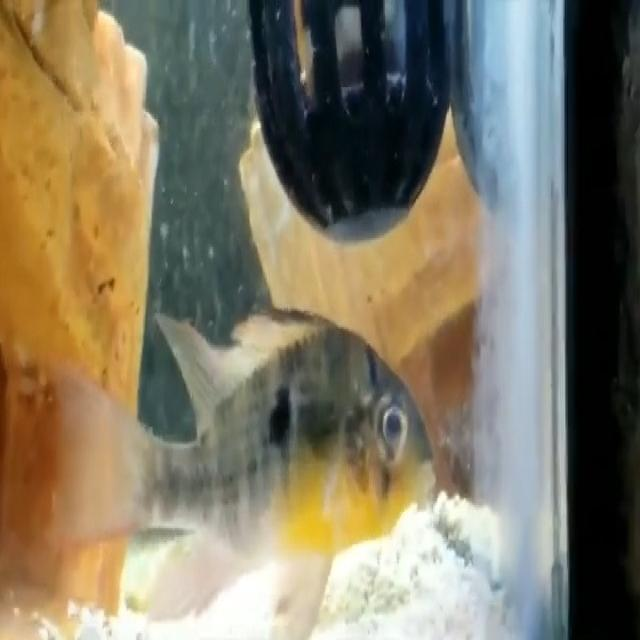fish: (52, 321, 440, 632)
